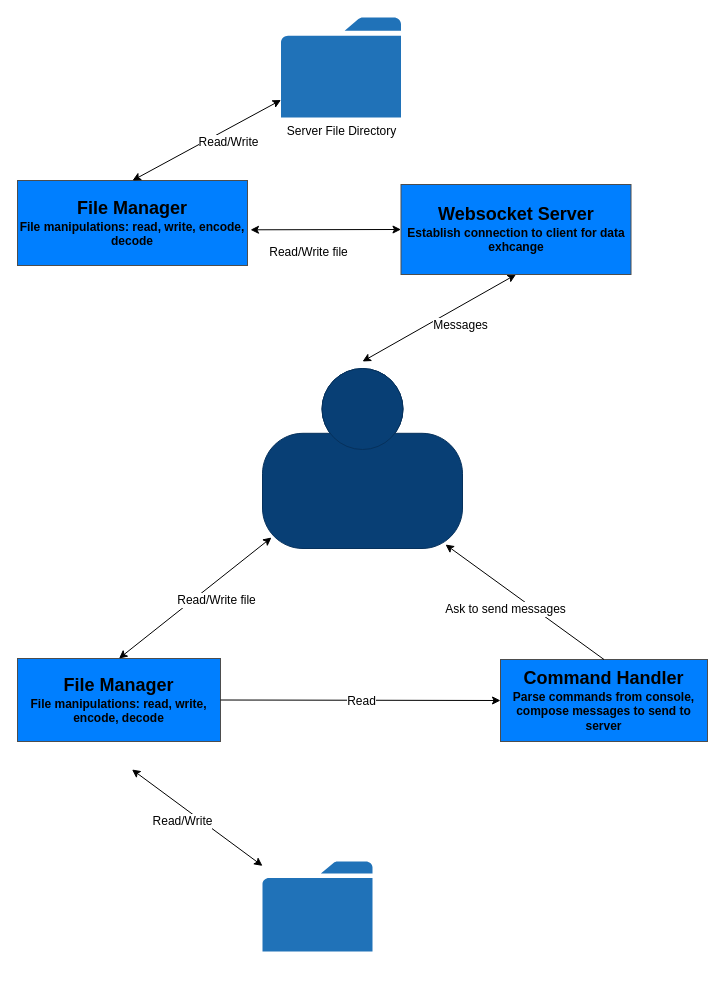
Some shapes in this 725 by 989 pixel diagram are drawn without their labels. The shapes that lost their labels are listed below. From the top down, each one's centre as x and y in pixels, then its label:
point 362,458: Websocket client [start data exchange]
point 317,906: Client File Directory
